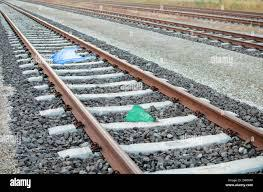Dust_screen: (126, 102, 157, 127)
Plastic: (53, 41, 94, 71)
